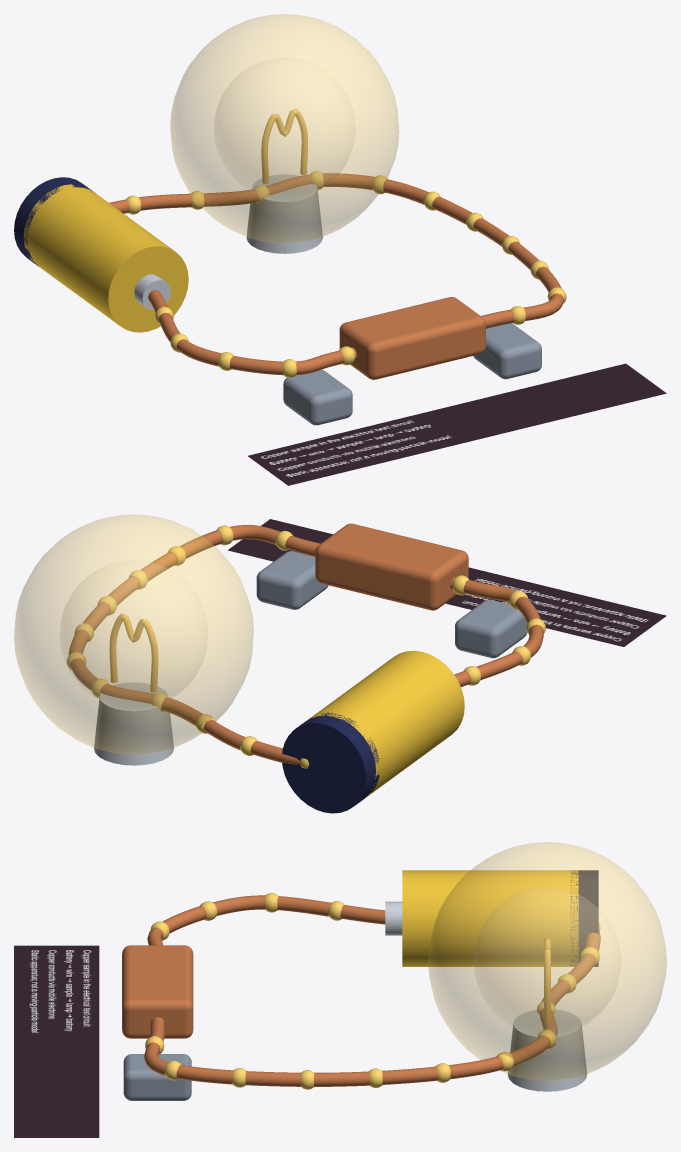
The model's file is materials.glb.
3 renders of one model, top to bottom at view 1: azimuth 30°, elevation 25°; view 2: azimuth 150°, elevation 25°; view 3: azimuth 270°, elevation 25°, orthographic. The views are drawn at different scales.
Parts seen in each view (by area): view 1: materials_authored_teaching_model, Scale_and_credit; view 2: materials_authored_teaching_model, Scale_and_credit; view 3: materials_authored_teaching_model, Scale_and_credit.
Boxes of the visible parts, box(x1,y1,x2,y2) form: materials_authored_teaching_model: box(14, 14, 566, 425); Scale_and_credit: box(248, 363, 666, 485); materials_authored_teaching_model: box(14, 514, 545, 813); Scale_and_credit: box(227, 519, 666, 646); materials_authored_teaching_model: box(122, 842, 666, 1100); Scale_and_credit: box(14, 945, 99, 1137).
Size of the model in its own units: 0.4 by 0.215 by 0.5737.
Materials: 11 (1 with a texture image).
